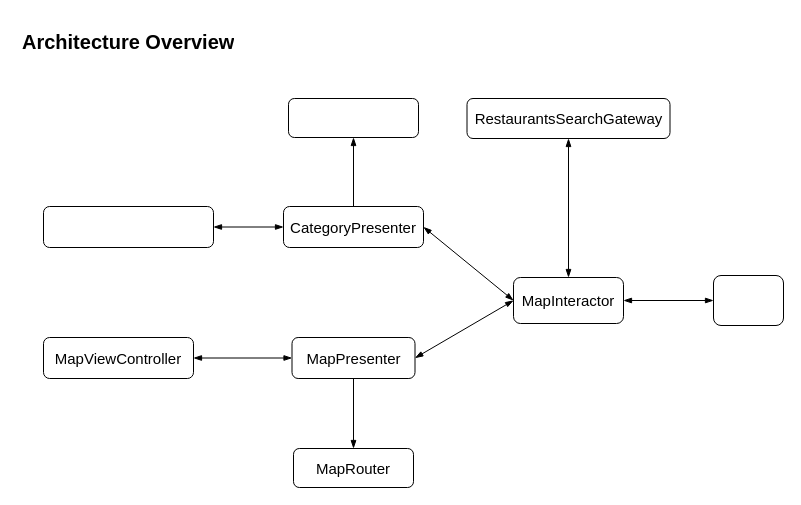
The diagram is 801 pixels wide and 505 high, and some of its shapes have lost their labels. Each missing label, with the centre of its shape:
CategoryRouter: (353,118)
CategoryViewController: (128,227)
Entity: (748,300)
